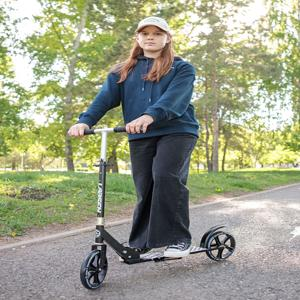human on a scooter: (68, 16, 237, 291)
